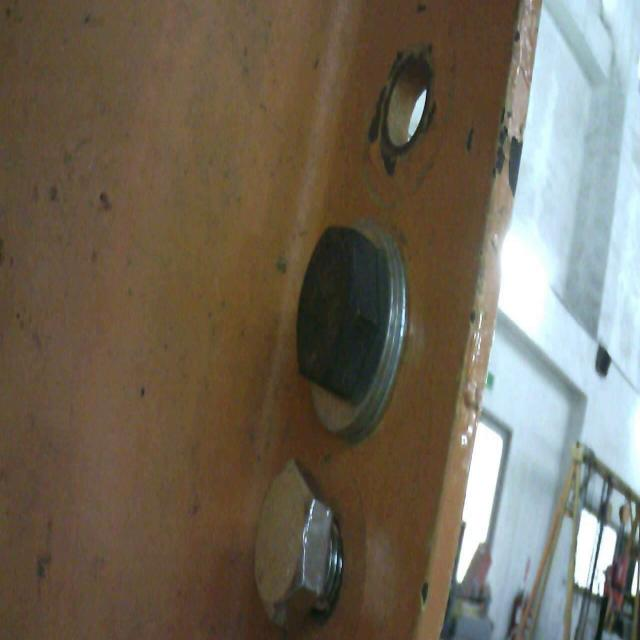Loose bolt: (252, 461, 346, 621)
Missing bolt: (383, 50, 430, 149)
Rusty bolt: (298, 221, 409, 433)
